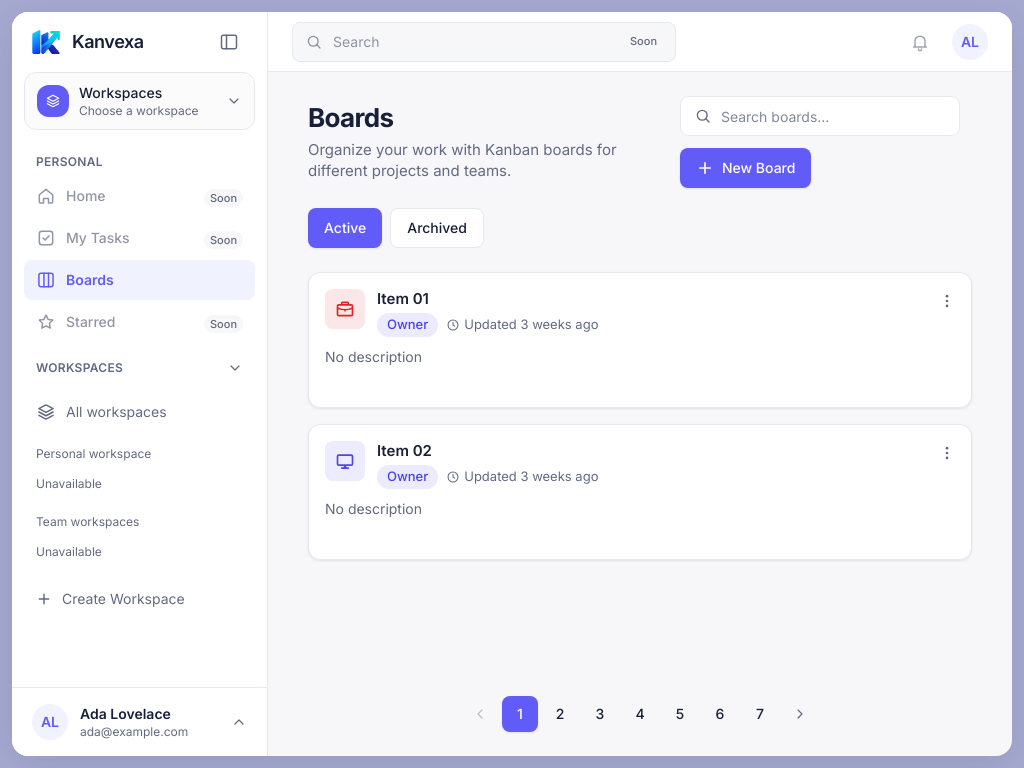
Test case: BoardsPage › uses measured capacity when sidebar toggles change the available width
Step 1. Click the button named "Page 5" → {"x": 680, "y": 714}, box [662,696,698,732]
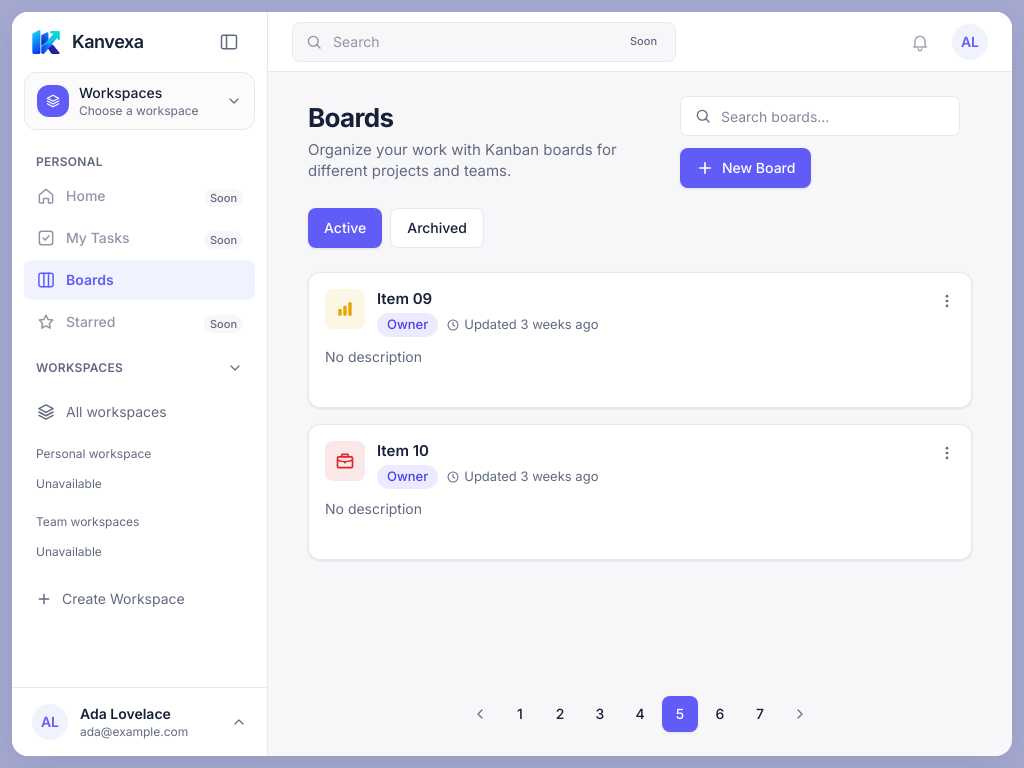
Expected: the link "Item 09" is shown, [377,289,432,308]
Step 2. Click the button named "Collapse sidebar" → {"x": 229, "y": 42}, box [207,20,251,64]
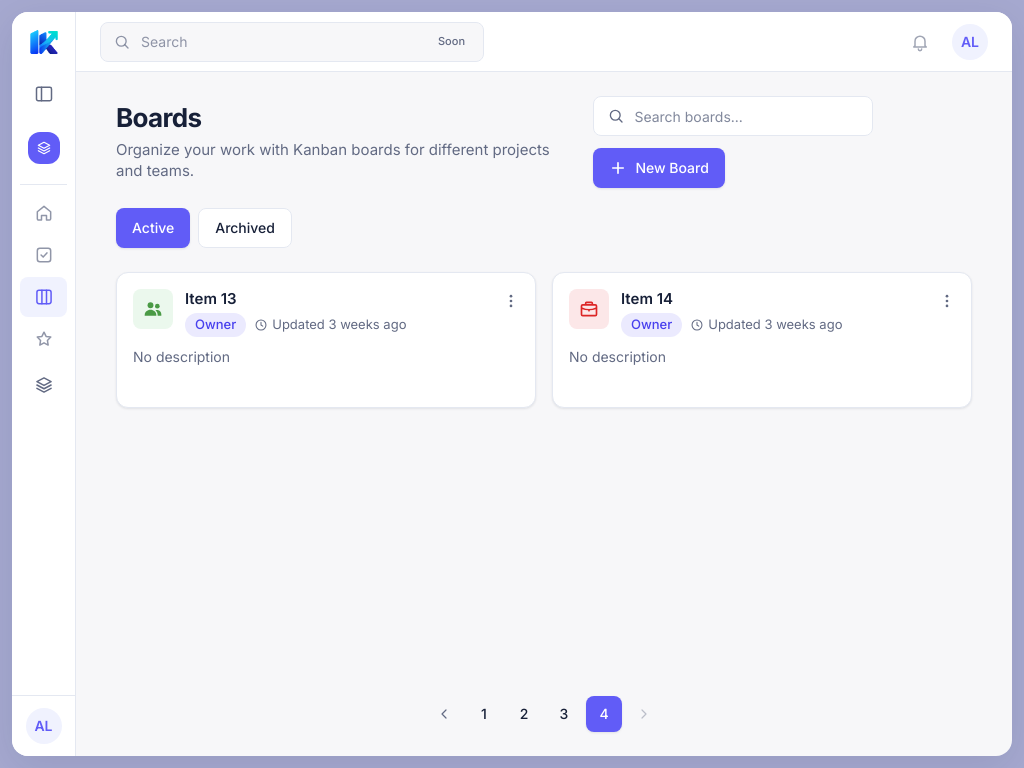
Expected: the link "Item 13" is shown, [185,289,237,308]
Step 3. Click the button named "Expand sidebar" → {"x": 44, "y": 94}, box [22,72,66,116]
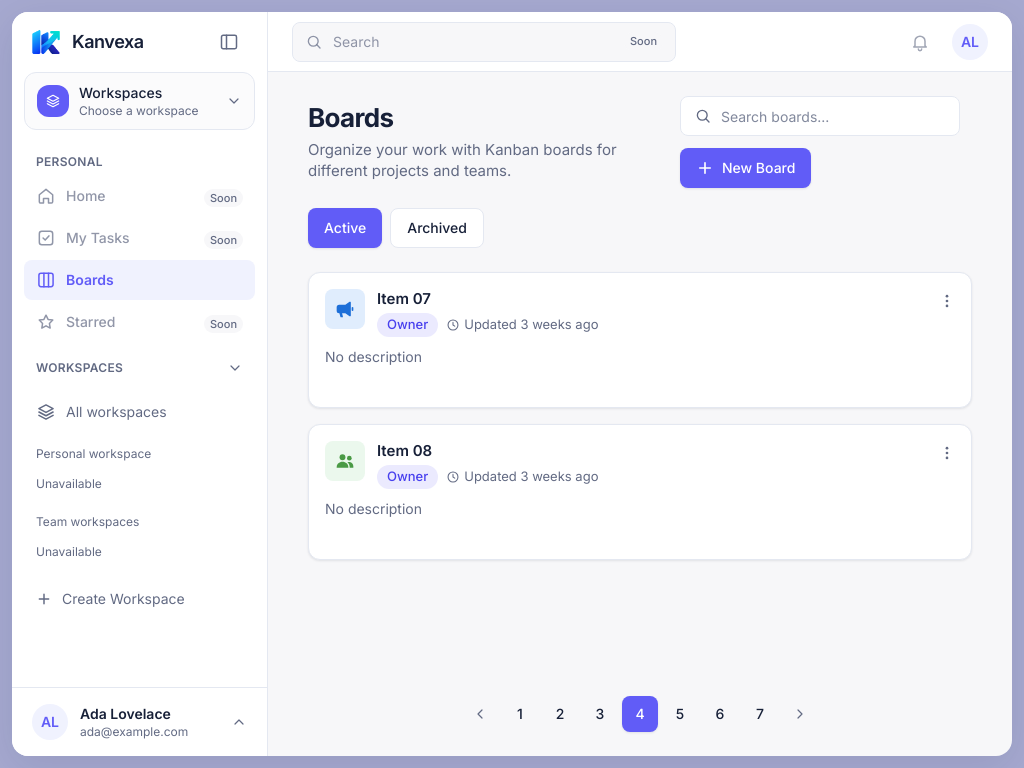
Expected: the link "Item 07" is shown, [377,289,431,308]
Expected: the button named "Page 7" is shown, [742,696,778,732]
